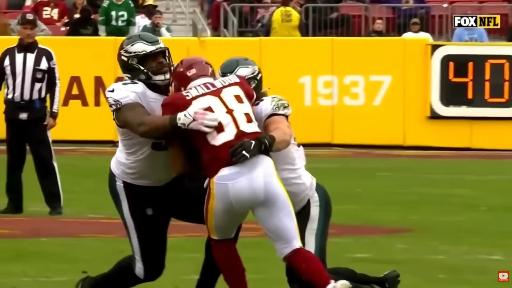Helmet: (118, 33, 172, 84), (219, 57, 262, 94), (172, 57, 215, 92)
Jersey: (162, 75, 262, 178), (106, 81, 173, 186), (271, 135, 316, 211)
Player: (162, 58, 351, 287), (76, 33, 218, 287), (219, 58, 331, 267)
